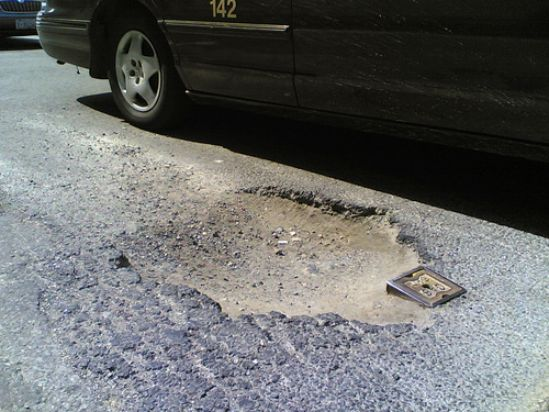pothole: (106, 183, 452, 329)
